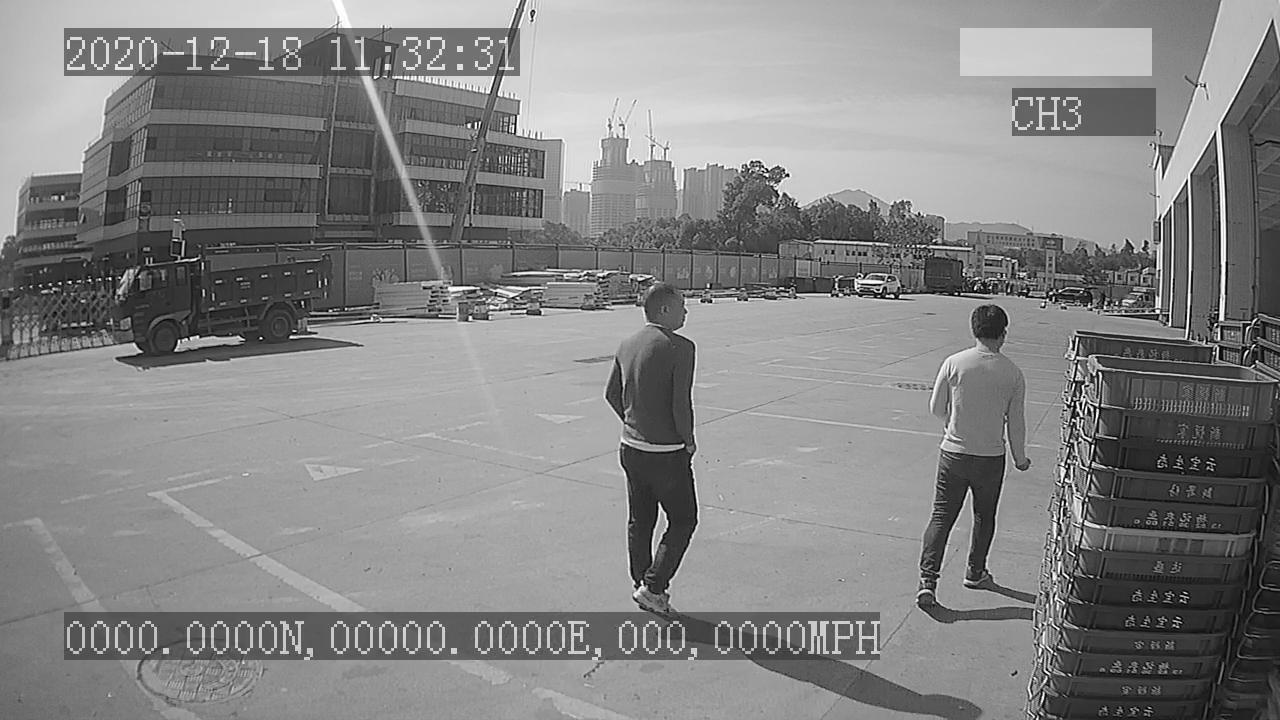person: (913, 296, 1033, 615)
